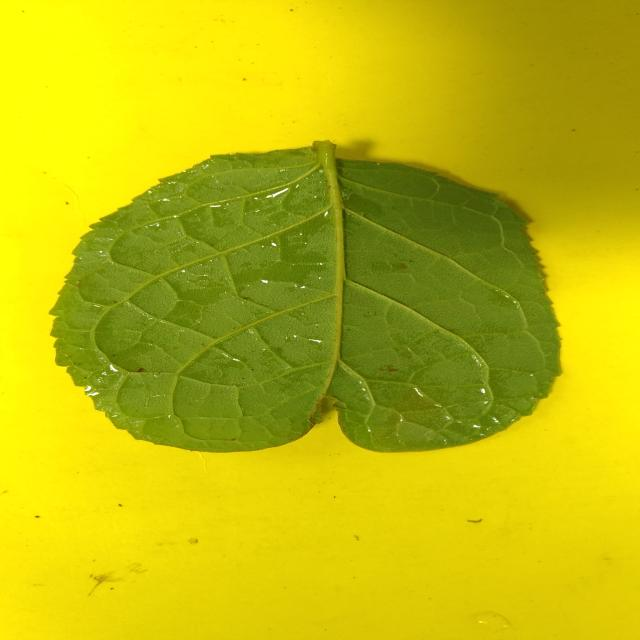padri: (53, 141, 560, 451)
